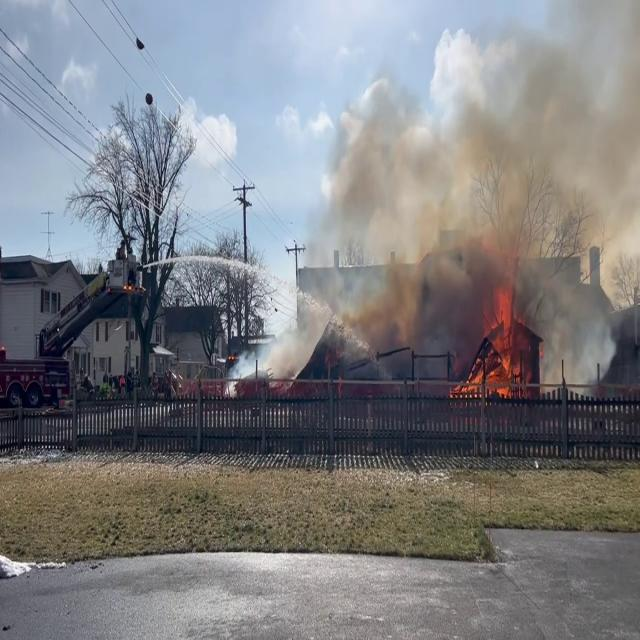Fire: (456, 268, 524, 404)
Smoke: (240, 28, 638, 390)
